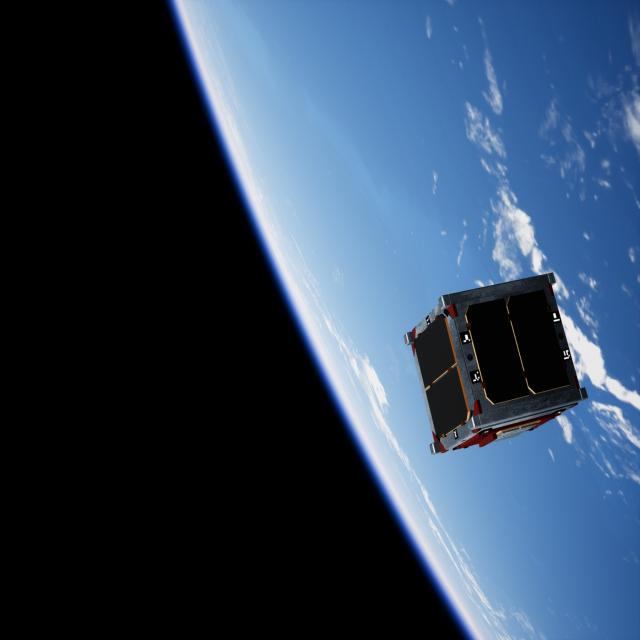medium_debris: (409, 270, 595, 460)
